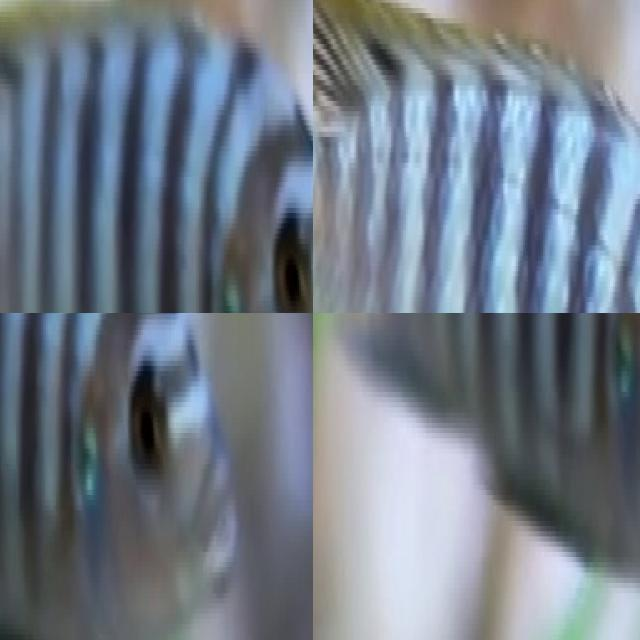fish: (313, 0, 640, 313), (0, 313, 313, 640), (0, 0, 313, 313), (313, 313, 640, 588)
